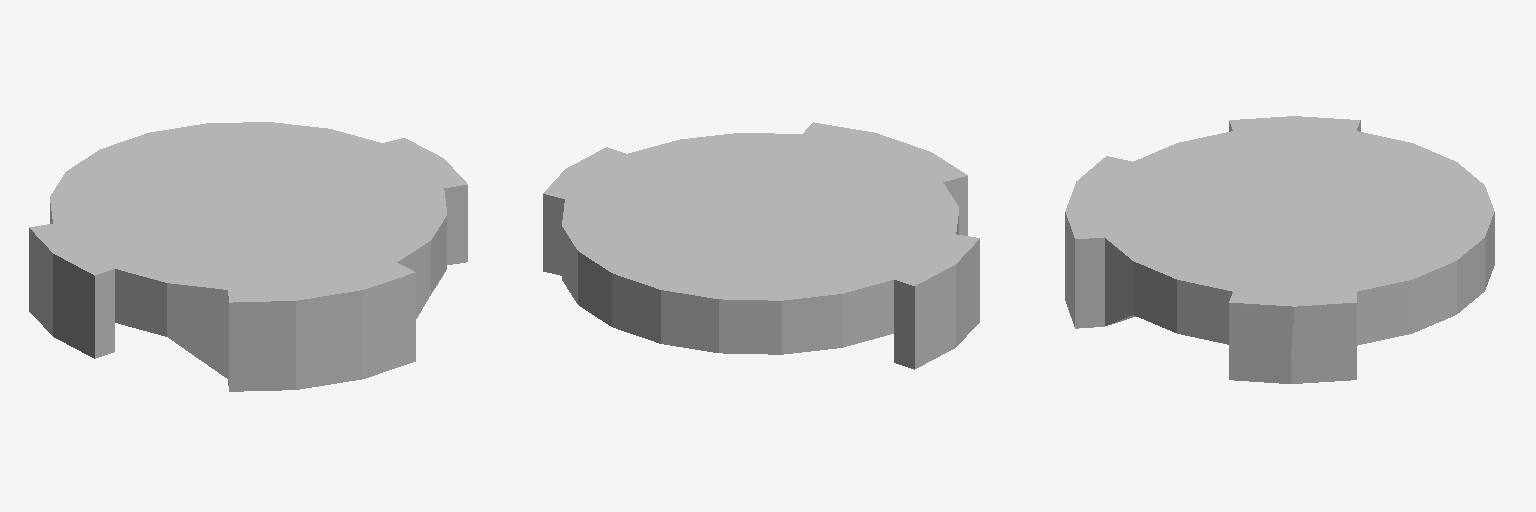
The model's file is Platform11.obj.
The picture shows the model from 3 angles: view 1: azimuth 30°, elevation 25°; view 2: azimuth 150°, elevation 25°; view 3: azimuth 270°, elevation 25°; orthographic projection.
Parts seen in each view (by area): view 1: pCylinder26; view 2: pCylinder26; view 3: pCylinder26.
Part boxes in pixels (left/top/right/bottom): pCylinder26: left=29, top=122, right=467, bottom=391; pCylinder26: left=543, top=122, right=979, bottom=369; pCylinder26: left=1065, top=116, right=1494, bottom=383.
Bounding box in the file's own units: 7.3 × 1.59 × 6.95.